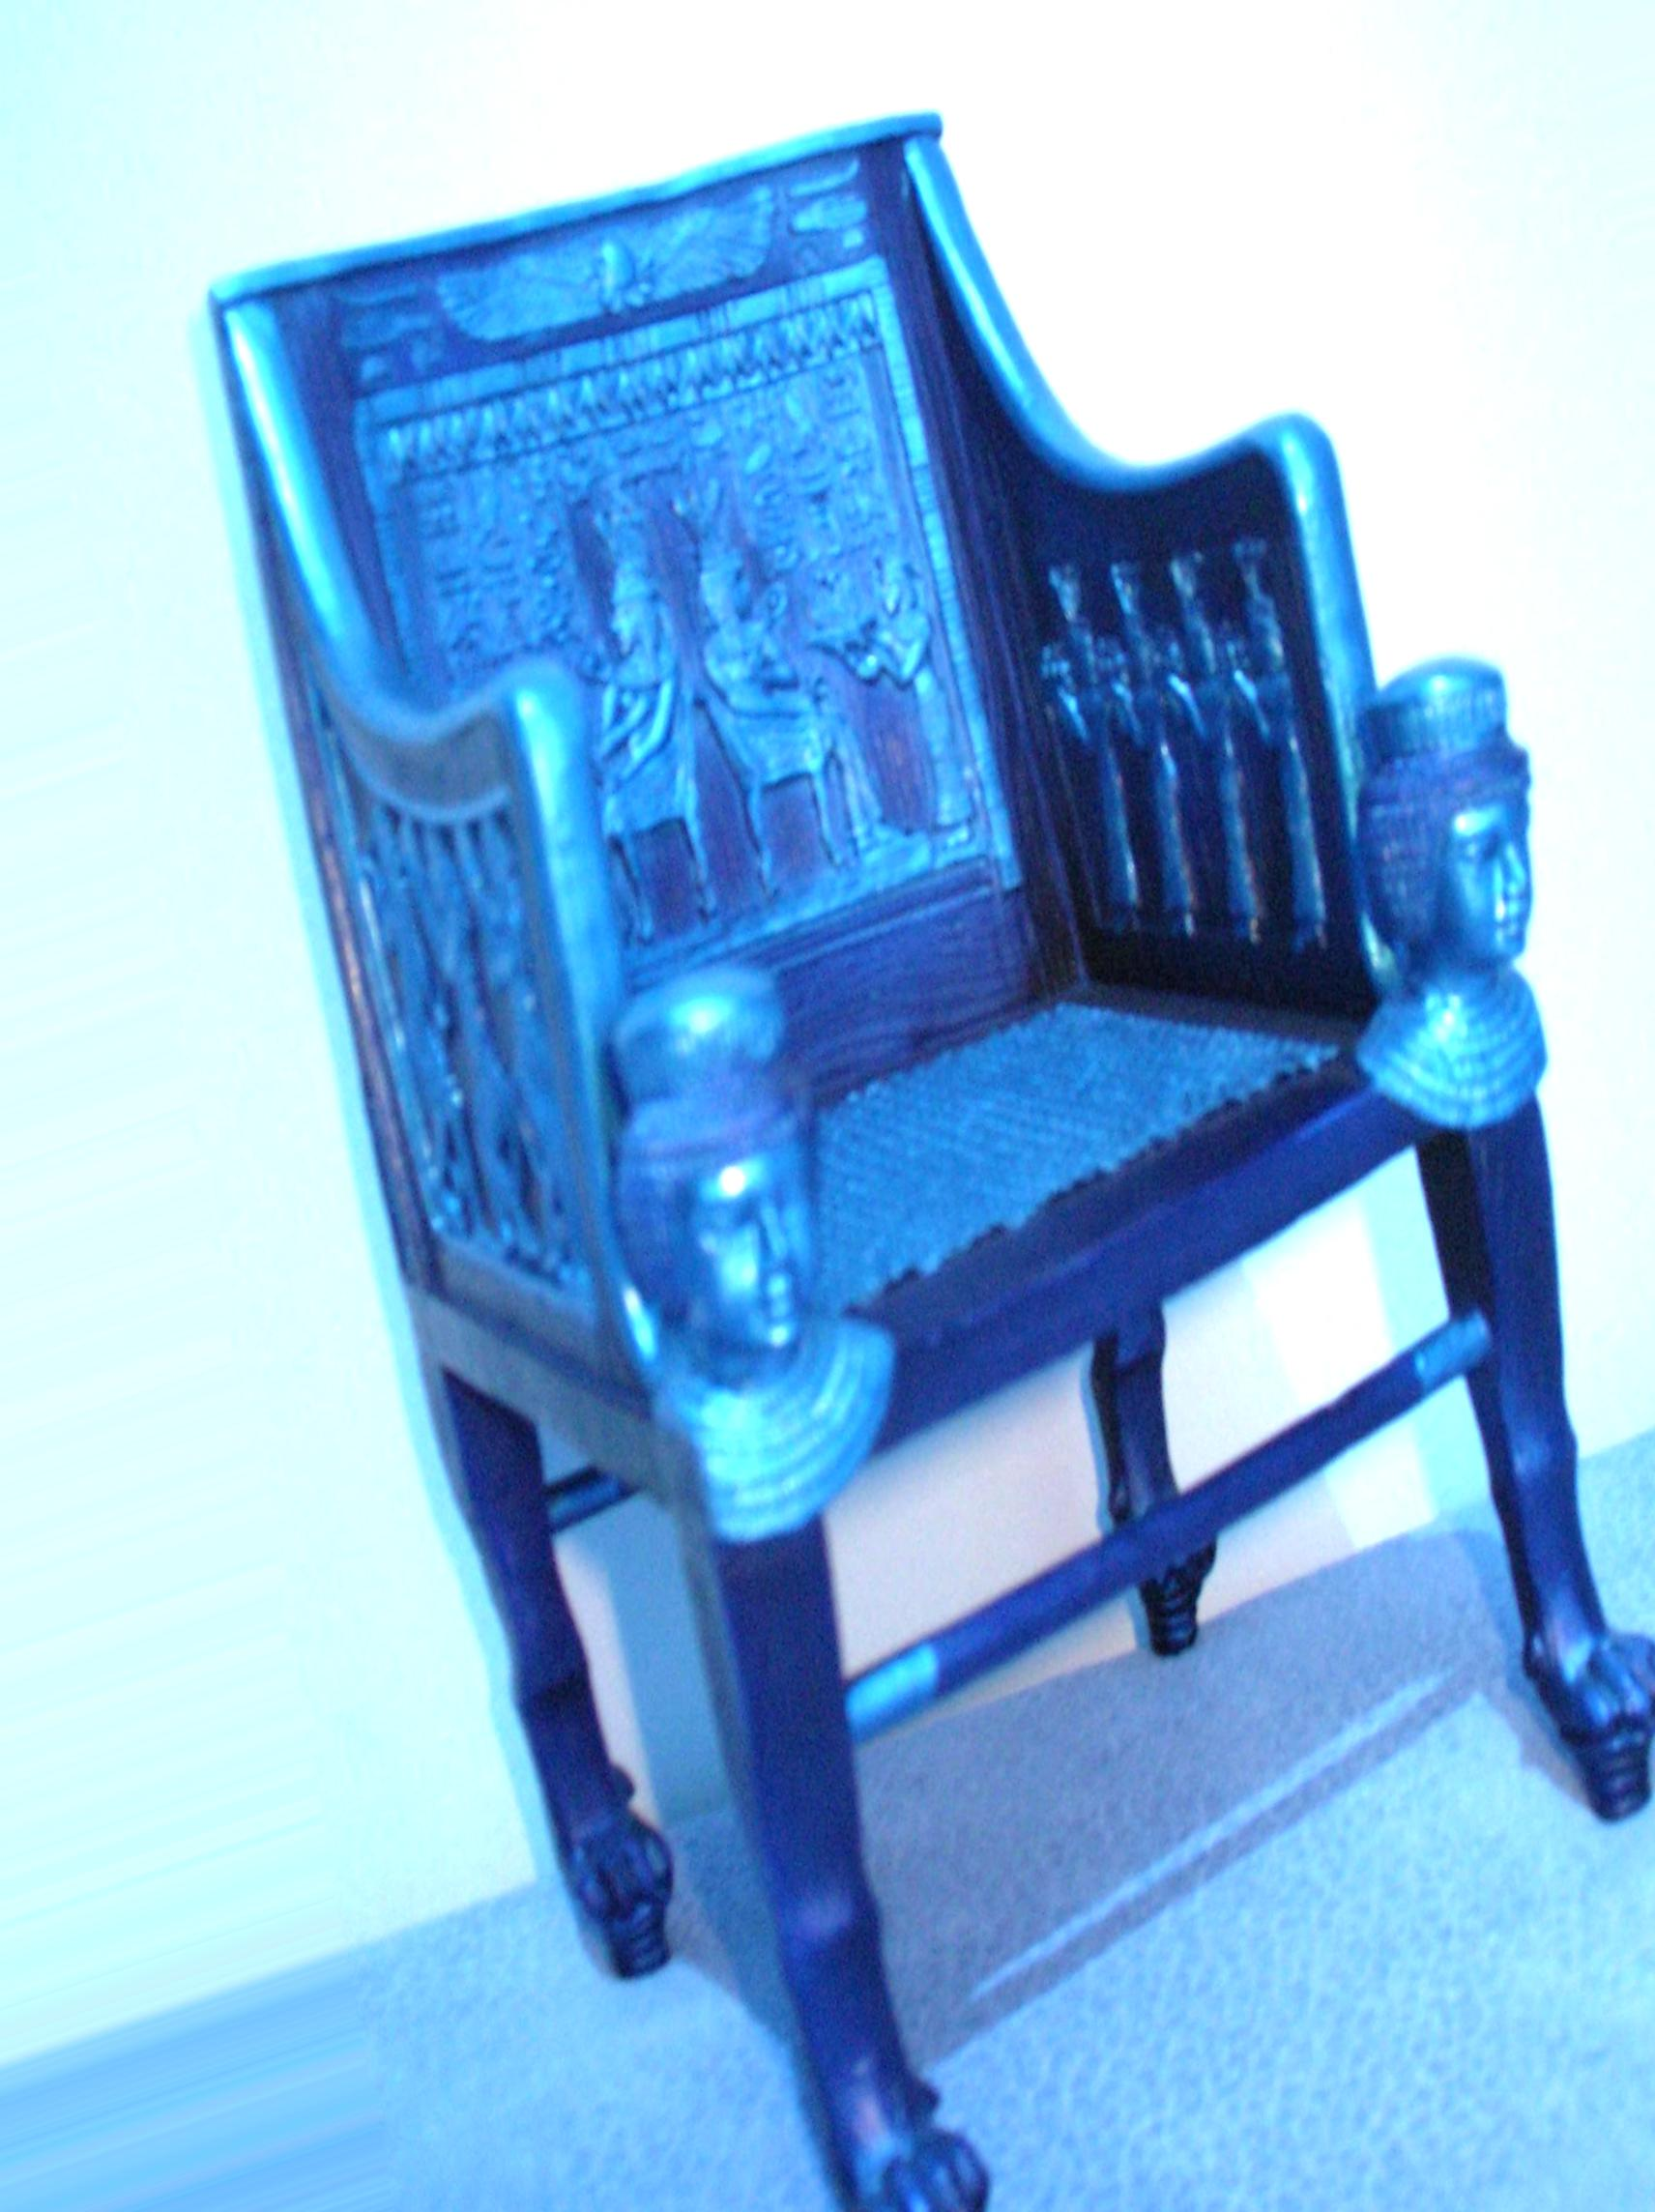chair: (200, 101, 1653, 2212)
